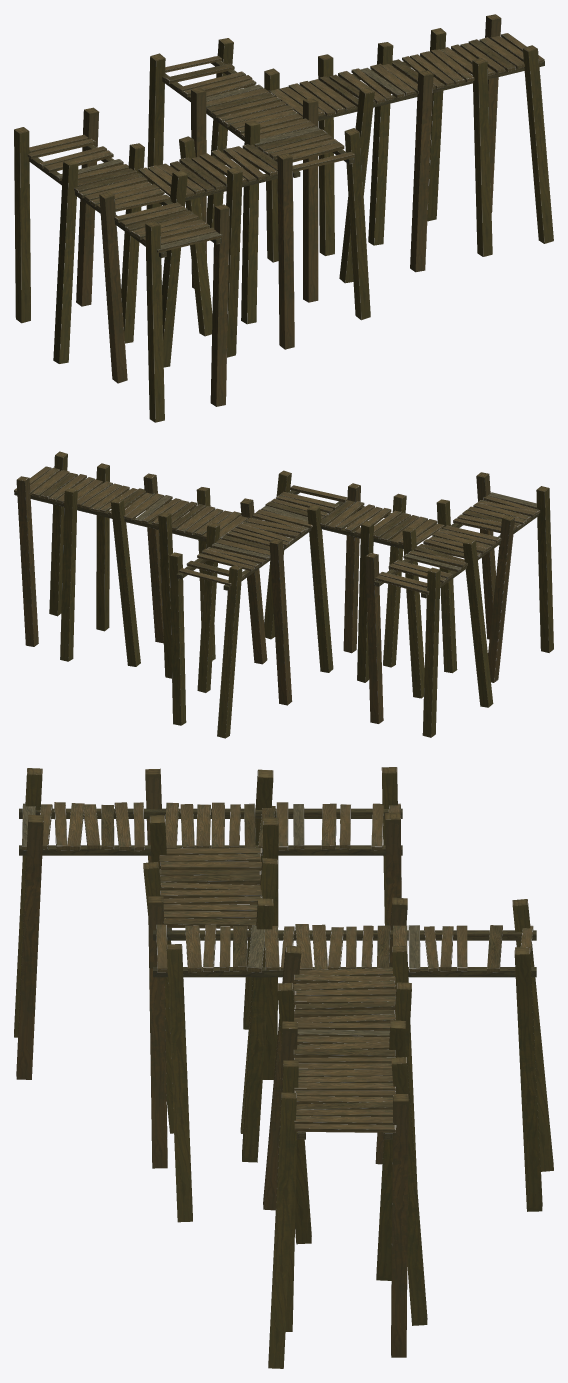
The model's file is Docks02.fbx.
3 views of the same model, one above another, from view 1: azimuth 30°, elevation 25°; view 2: azimuth 150°, elevation 25°; view 3: azimuth 270°, elevation 25° (orthographic). The views are drawn at different scales.
Parts seen in each view (by area): view 1: Docks_02; view 2: Docks_02; view 3: Docks_02.
Part boxes in pixels (bbox=[...]): Docks_02: bbox=[14, 14, 553, 422]; Docks_02: bbox=[14, 451, 553, 738]; Docks_02: bbox=[14, 767, 553, 1368].
Size of the model in its own units: 15.44 by 5.89 by 10.41.
1 material, 1 textured.
